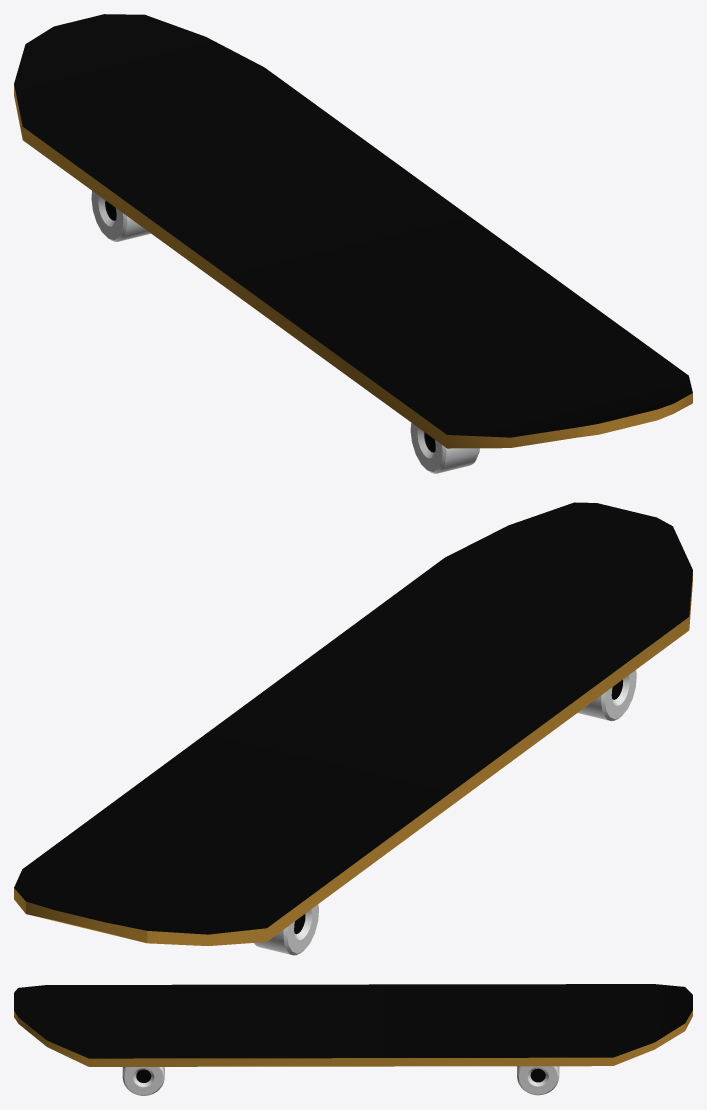
File: skate.fbx
3 views of the same model, one above another, from view 1: azimuth 30°, elevation 25°; view 2: azimuth 150°, elevation 25°; view 3: azimuth 270°, elevation 25° (orthographic). The views are drawn at different scales.
Parts seen in each view (by area): view 1: skate; view 2: skate; view 3: skate.
Boxes of the visible parts, left/top/right/bottom form: skate: left=14, top=14, right=692, bottom=473; skate: left=14, top=502, right=692, bottom=955; skate: left=14, top=984, right=692, bottom=1095.
Size of the model in its own units: 115 by 48.22 by 444.
